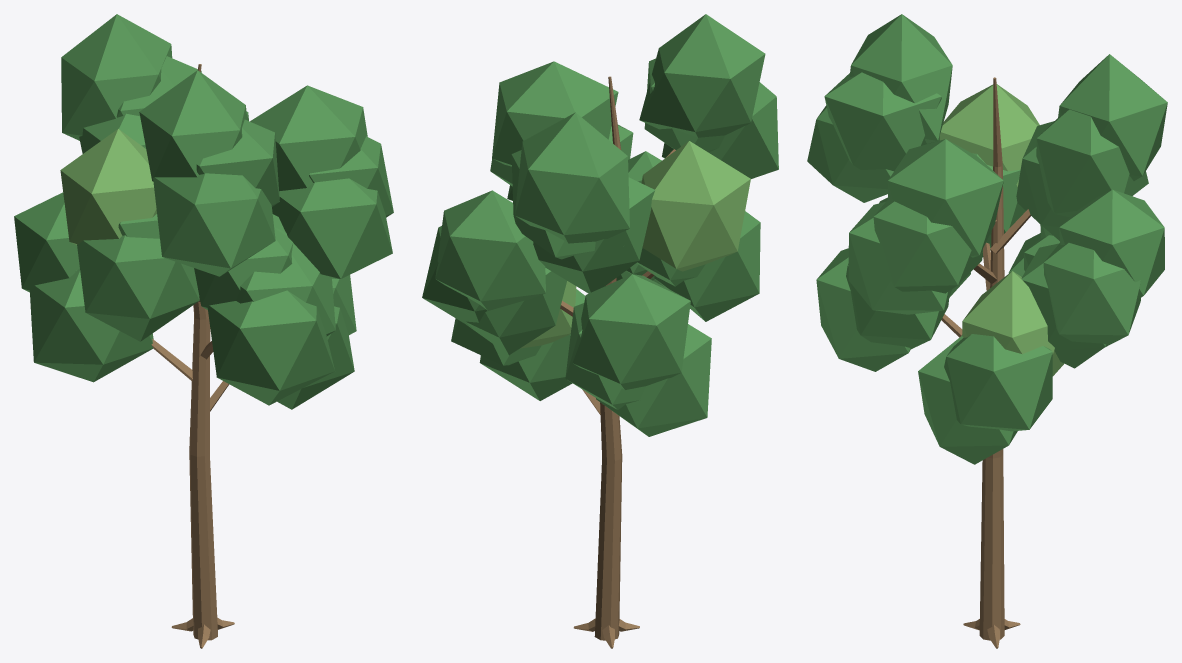
File: oak_02.glb
3 renders of one model, left to right at view 1: azimuth 30°, elevation 25°; view 2: azimuth 150°, elevation 25°; view 3: azimuth 270°, elevation 25°, orthographic. The views are drawn at different scales.
Parts seen in each view (by area): view 1: Oak_800_02; view 2: Oak_800_02; view 3: Oak_800_02.
Boxes of the visible parts, x1=… form: Oak_800_02: x1=14, y1=14, x2=393, y2=648; Oak_800_02: x1=422, y1=14, x2=778, y2=648; Oak_800_02: x1=807, y1=14, x2=1167, y2=648.
Bounding box in the file's own units: 8.55 × 17.81 × 9.76.
